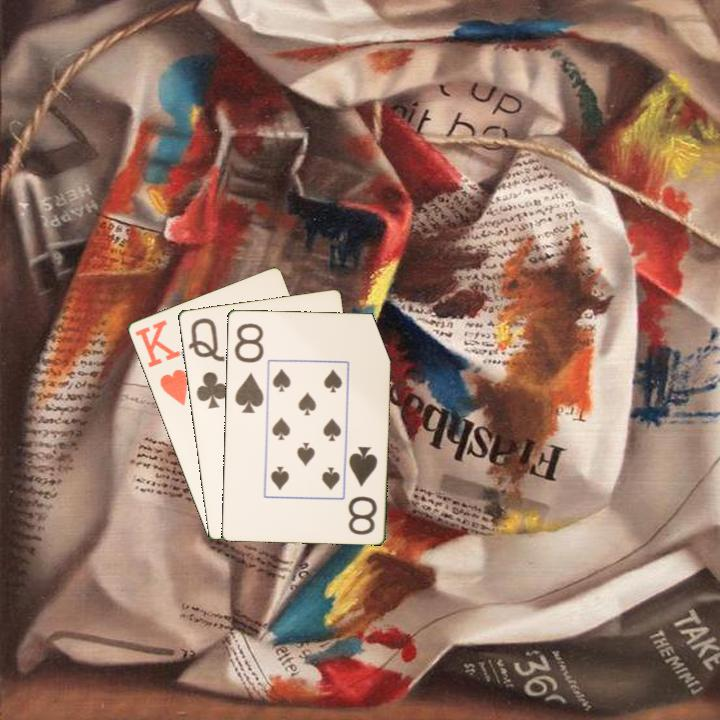8s: (344, 443, 380, 538), (231, 319, 266, 416)
Kh: (131, 316, 191, 408)
Qc: (184, 314, 230, 411)
